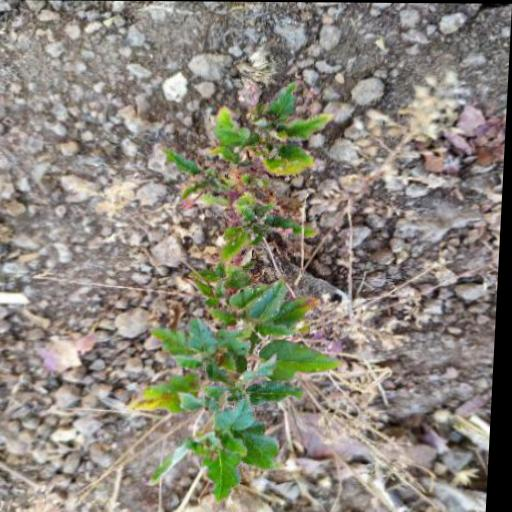weed: (130, 37, 363, 500)
